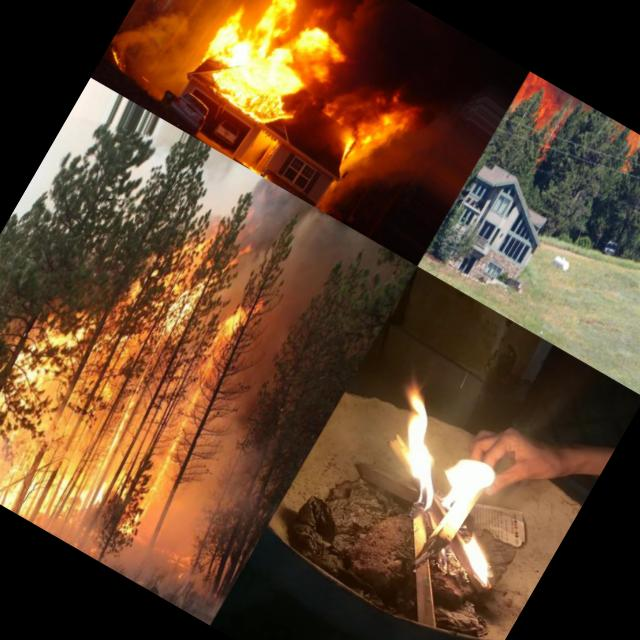fire: (336, 379, 555, 596), (0, 282, 162, 547), (108, 284, 276, 538), (193, 0, 370, 140), (149, 229, 247, 359), (330, 76, 424, 186), (498, 72, 564, 146), (594, 118, 640, 167), (156, 536, 200, 576), (315, 94, 357, 131)
smoke: (146, 416, 266, 559), (106, 0, 258, 95), (210, 301, 307, 434), (96, 532, 225, 625), (262, 206, 356, 318), (329, 0, 433, 78), (377, 107, 453, 203), (225, 176, 302, 260), (315, 165, 371, 226), (196, 148, 240, 190)
